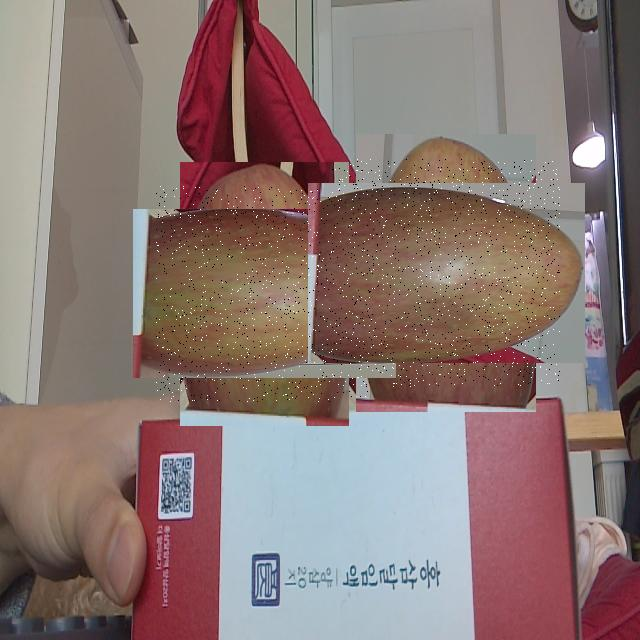apple: (332, 159, 560, 387), (156, 186, 373, 402)
